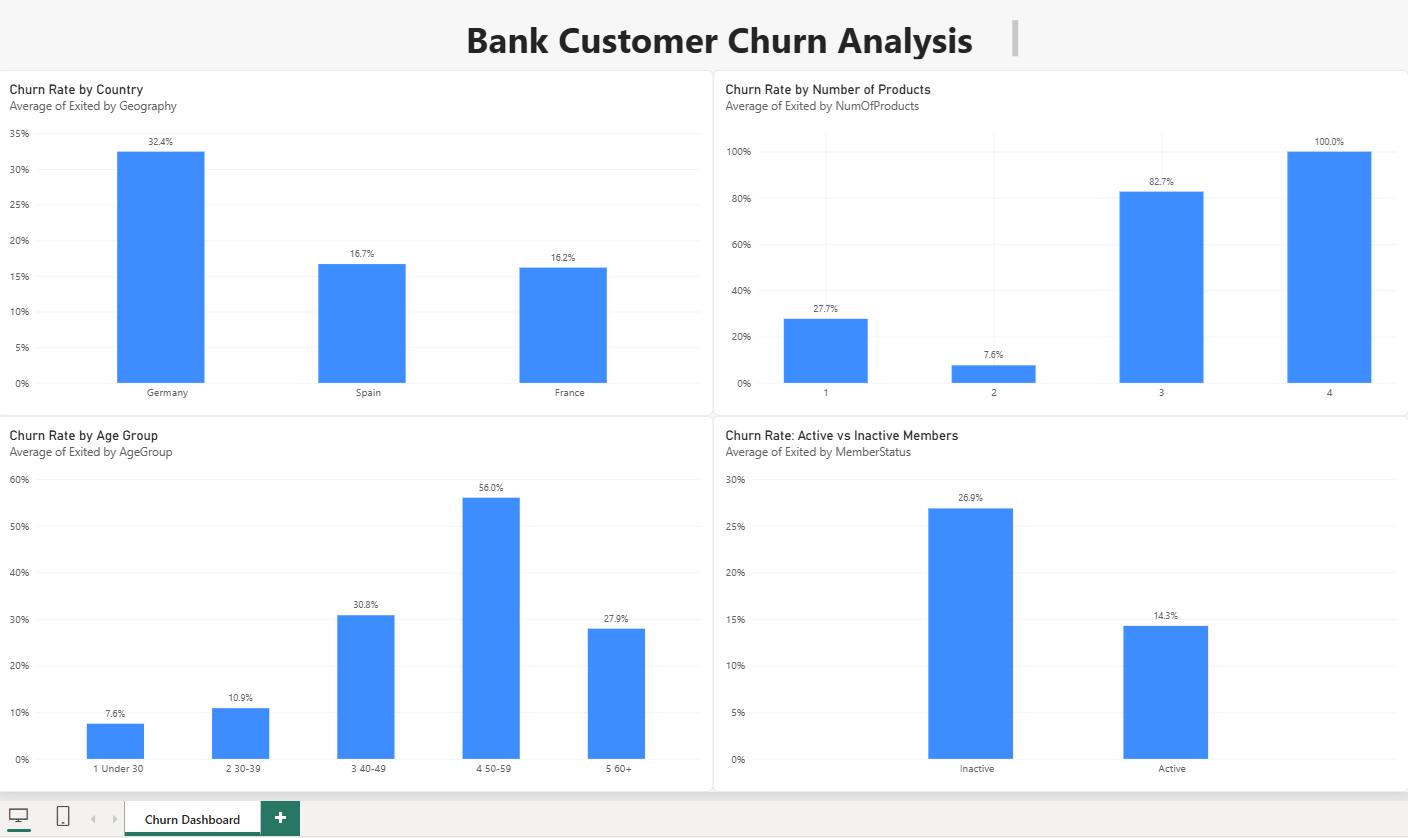

This screenshot's page, from the dashboard's own definition file:
{"tool":"powerbi","page":{"name":"Churn Dashboard","canvas":[1920,1080],"ordinal":0},"visuals":[{"type":"clusteredColumnChart","title":"Churn Rate by Country","fields":{"Category":["Churn.Geography"],"Y":["Avg(Churn.Exited)"]},"box":[0,97.9,973.6,470.5],"z":0},{"type":"clusteredColumnChart","title":"Churn Rate by Age Group","fields":{"Category":["Churn.AgeGroup"],"Y":["Avg(Churn.Exited)"]},"box":[0,568.4,973.6,511.3],"z":1000},{"type":"clusteredColumnChart","title":"Churn Rate by Number of Products","fields":{"Category":["Churn.NumOfProducts"],"Y":["Avg(Churn.Exited)"]},"box":[973.6,97.9,946.4,470.5],"z":2000},{"type":"clusteredColumnChart","title":"Churn Rate: Active vs Inactive Members","fields":{"Category":["Churn.MemberStatus"],"Y":["Avg(Churn.Exited)"]},"box":[973.6,568.4,946.4,511.3],"z":3000},{"type":"textbox","box":[100.6,100.6,811.8,81.6],"z":3001},{"type":"textbox","box":[542.5,27.2,845.8,55.8],"z":3002}]}

Visuals, with their boxes on the page's 1920x1080 design canvas (x1, y1, x2, y2). These are canvas units, not pixel positions in the 1408x838 screenshot, which may show the page scaled, cropped or inside an application window:
"Churn Rate by Country" clusteredColumnChart: l=0, t=98, r=974, b=568
"Churn Rate by Age Group" clusteredColumnChart: l=0, t=568, r=974, b=1080
"Churn Rate by Number of Products" clusteredColumnChart: l=974, t=98, r=1920, b=568
"Churn Rate: Active vs Inactive Members" clusteredColumnChart: l=974, t=568, r=1920, b=1080
textbox: l=101, t=101, r=912, b=182
textbox: l=542, t=27, r=1388, b=83
